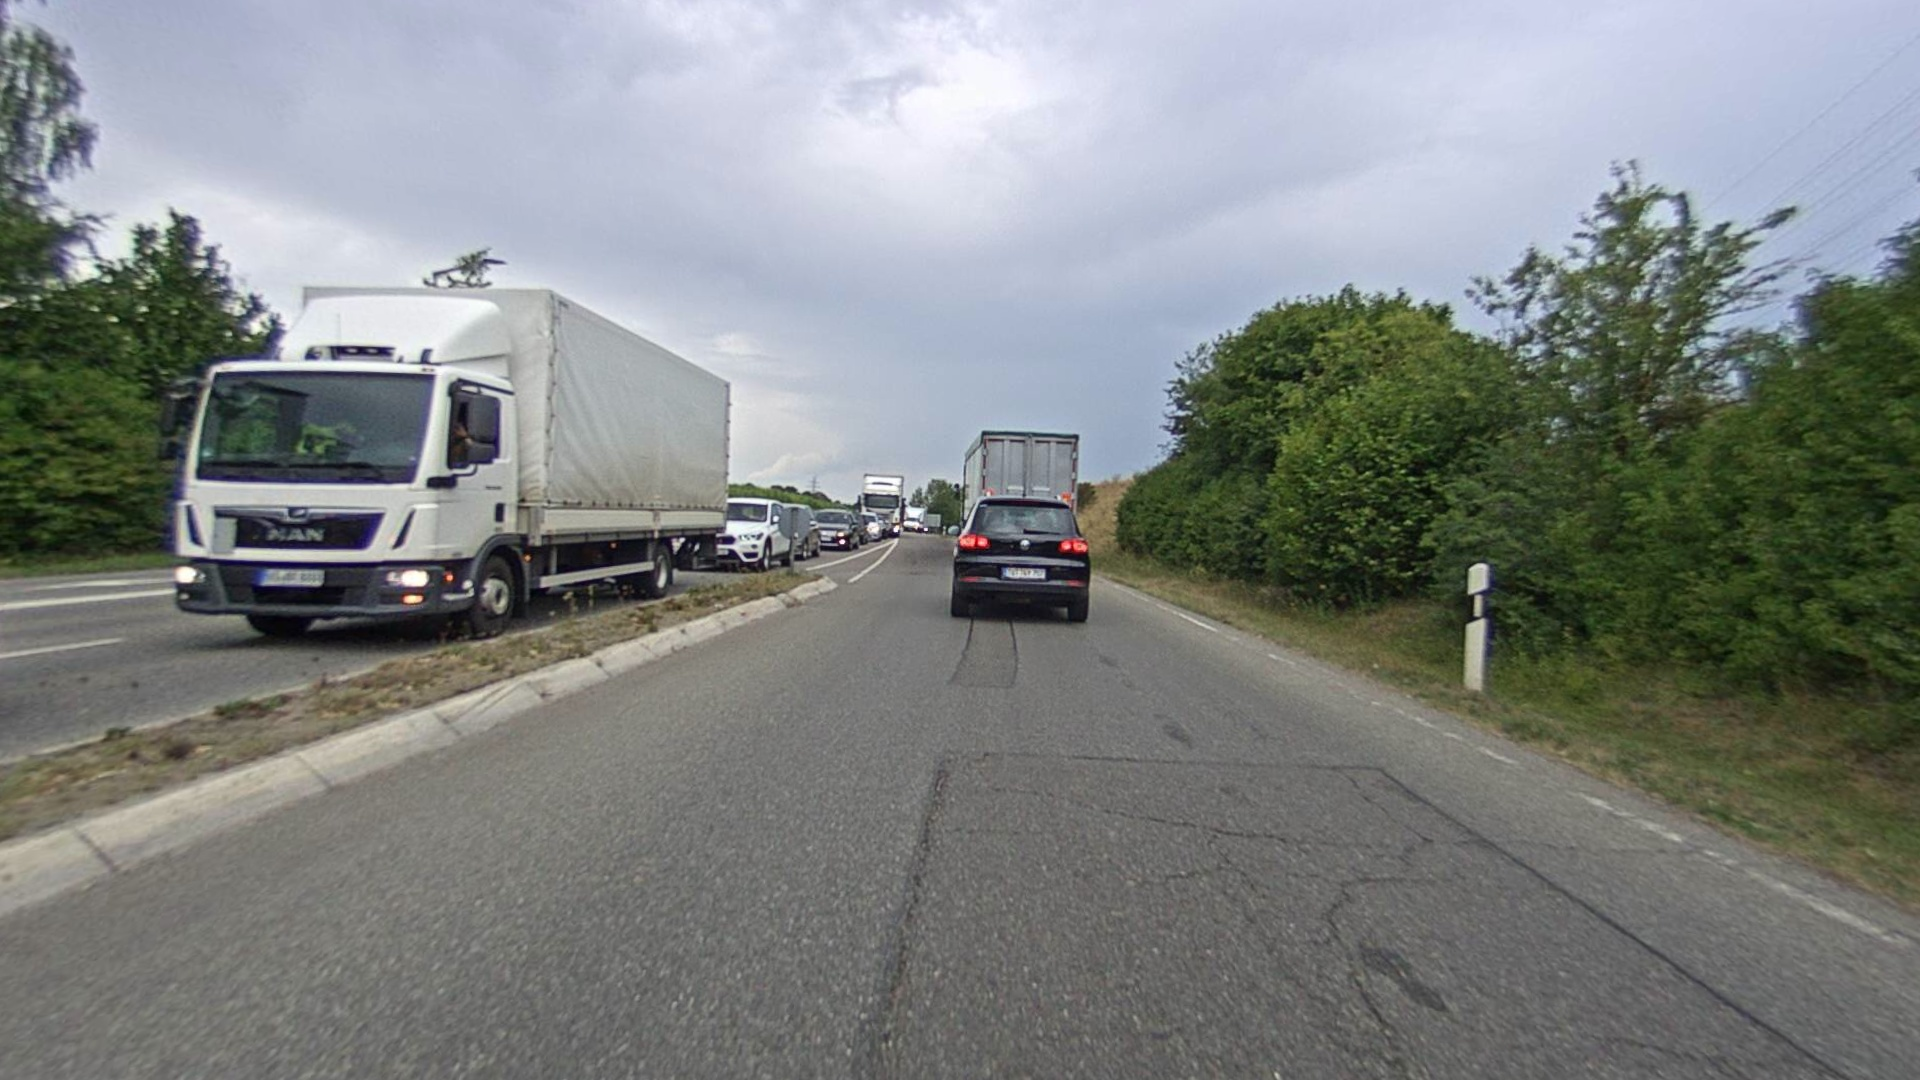car: (948, 495, 1095, 629)
truck: (170, 282, 737, 638)
